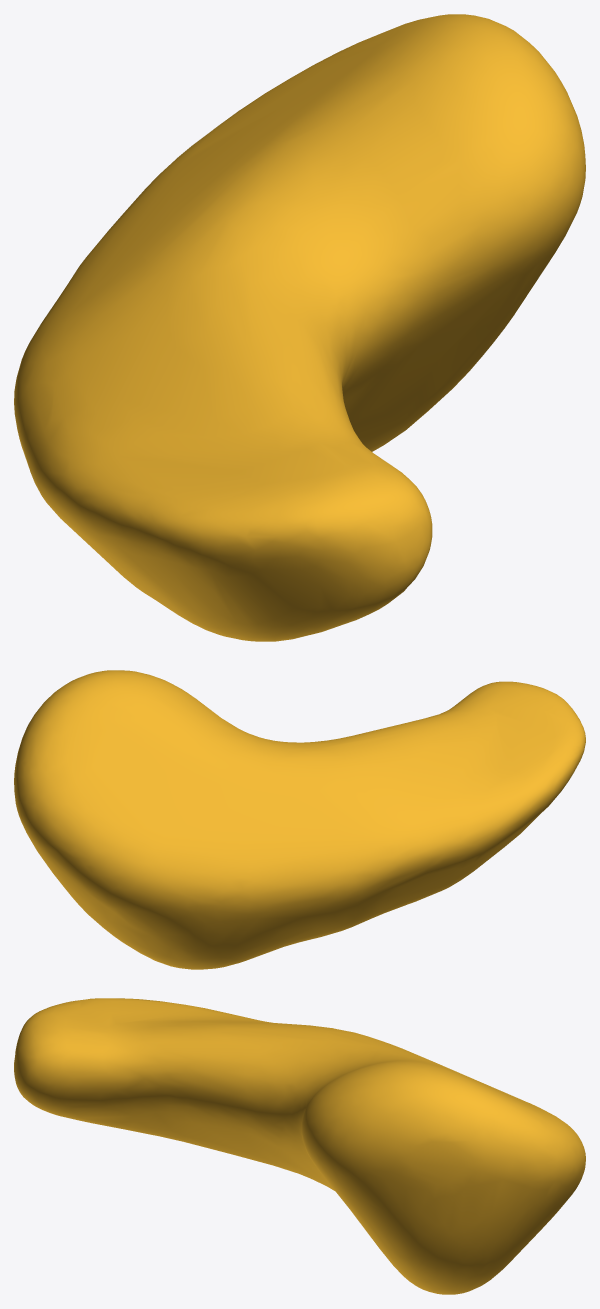
Rendered from nervoso-inferior-semilunar-lobule-r.glb.
The picture shows the model from 3 angles, top to bottom: view 1: azimuth 30°, elevation 25°; view 2: azimuth 150°, elevation 25°; view 3: azimuth 270°, elevation 25°; orthographic projection. The views are drawn at different scales.
Parts seen in each view (by area): view 1: Inferior semilunar lobule.r; view 2: Inferior semilunar lobule.r; view 3: Inferior semilunar lobule.r.
Part boxes in pixels (bbox=[...]): Inferior semilunar lobule.r: bbox=[14, 14, 585, 641]; Inferior semilunar lobule.r: bbox=[14, 670, 585, 969]; Inferior semilunar lobule.r: bbox=[14, 998, 585, 1294].
Size of the model in its own units: 0.0475 by 0.0285 by 0.0567.
